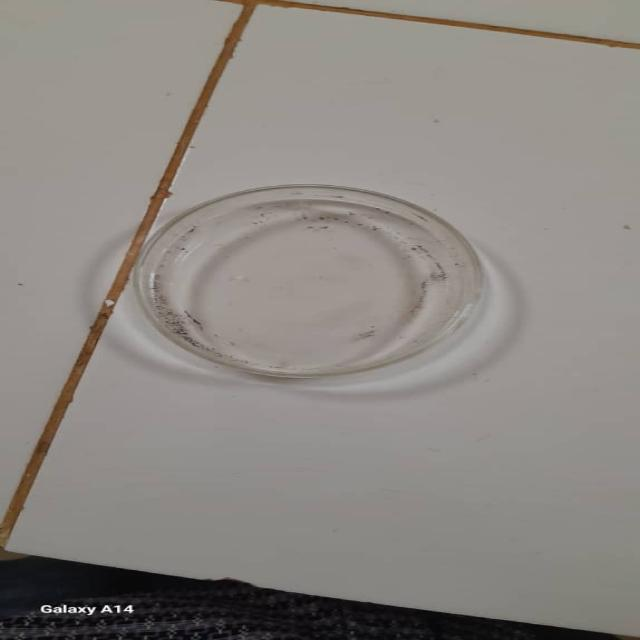Pedrish: (130, 175, 500, 383)
